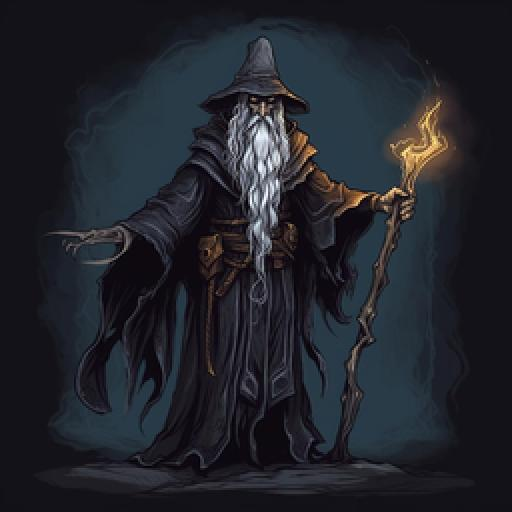wizards: (52, 34, 452, 472)
